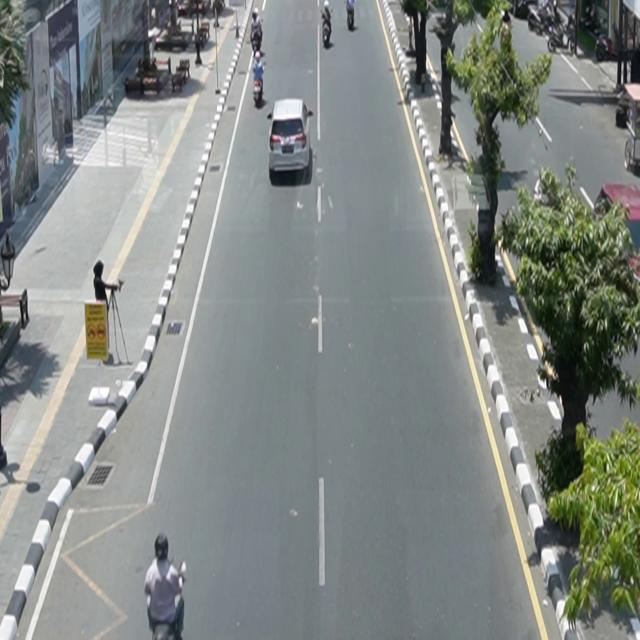car: (268, 98, 314, 176)
